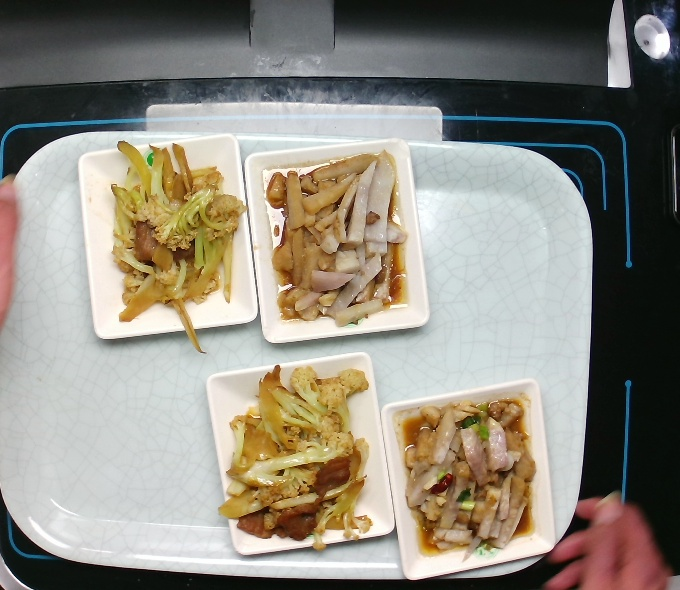wcq-QiuCaiChaoRou: (104, 136, 260, 339), (227, 355, 382, 556)
wcq-YuTou: (253, 145, 416, 334), (393, 391, 542, 560)
